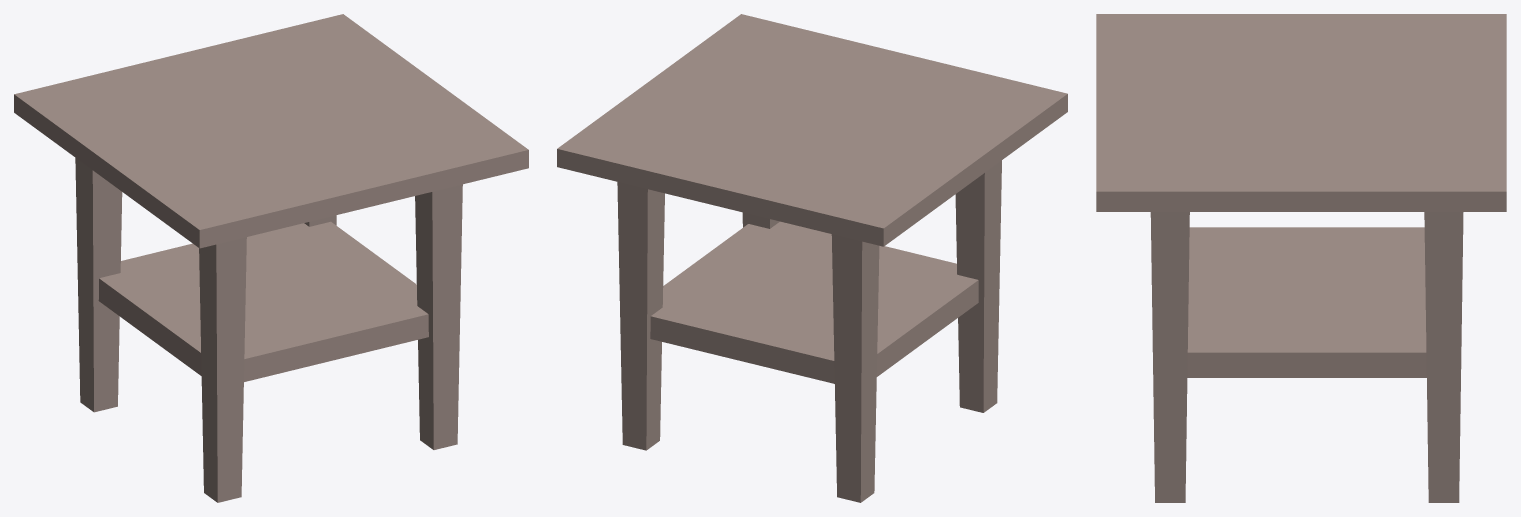
Rendered from furniture_table_end.glb.
3 views of the same model, side by side, from view 1: azimuth 30°, elevation 25°; view 2: azimuth 150°, elevation 25°; view 3: azimuth 270°, elevation 25° (orthographic). The views are drawn at different scales.
Visible parts, largest first — view 1: furniture_table_end; view 2: furniture_table_end; view 3: furniture_table_end.
Boxes of the visible parts, left/top/right/bottom form: furniture_table_end: left=14, top=14, right=528, bottom=502; furniture_table_end: left=557, top=14, right=1067, bottom=502; furniture_table_end: left=1096, top=14, right=1506, bottom=502.
Bounding box in the file's own units: 0.4594 × 0.4044 × 0.4486.
